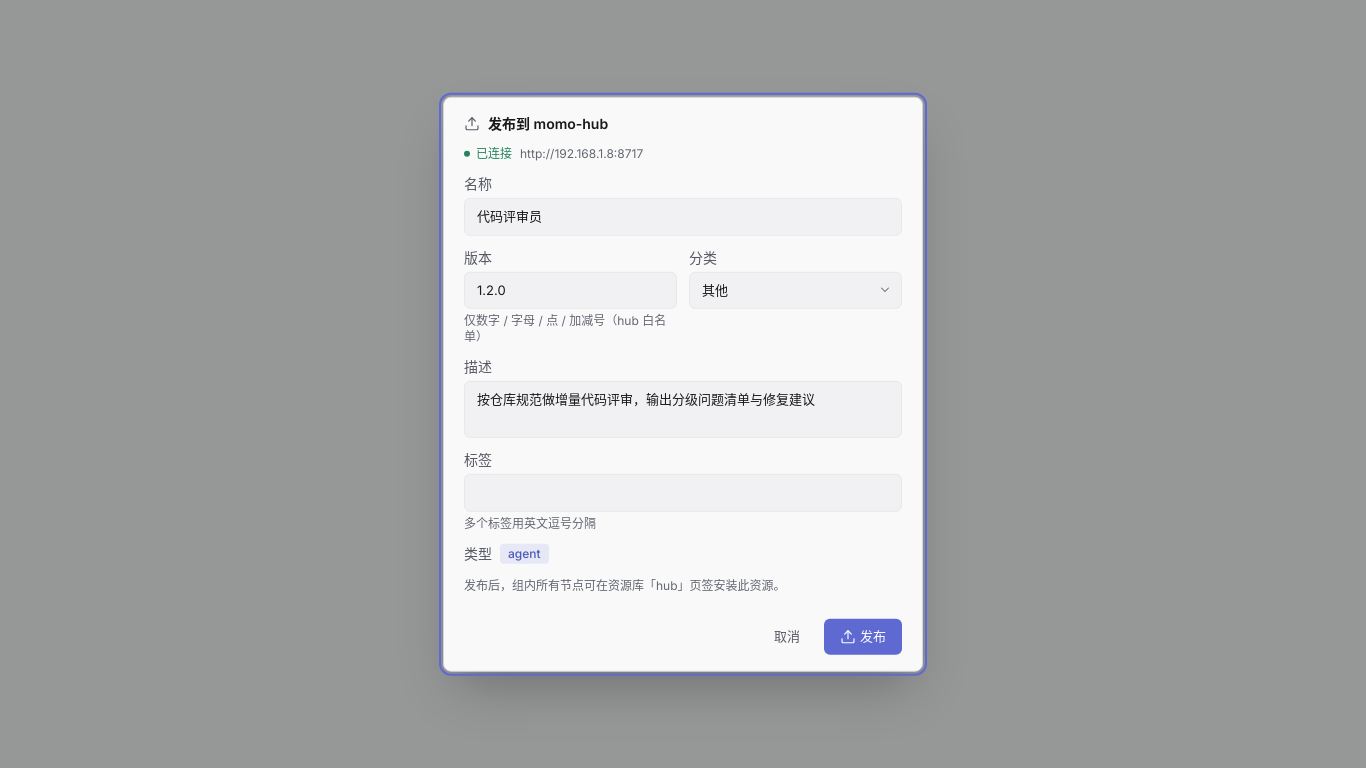
Test: PublishDialog · 版本回写回执（M5.1） › plugin zip 装源 skipped → 提示「插件本体由插件包管理，版本未回写」
The image size is (1366, 768).
Click the button "发布" at [863, 637], box [824, 619, 902, 654]
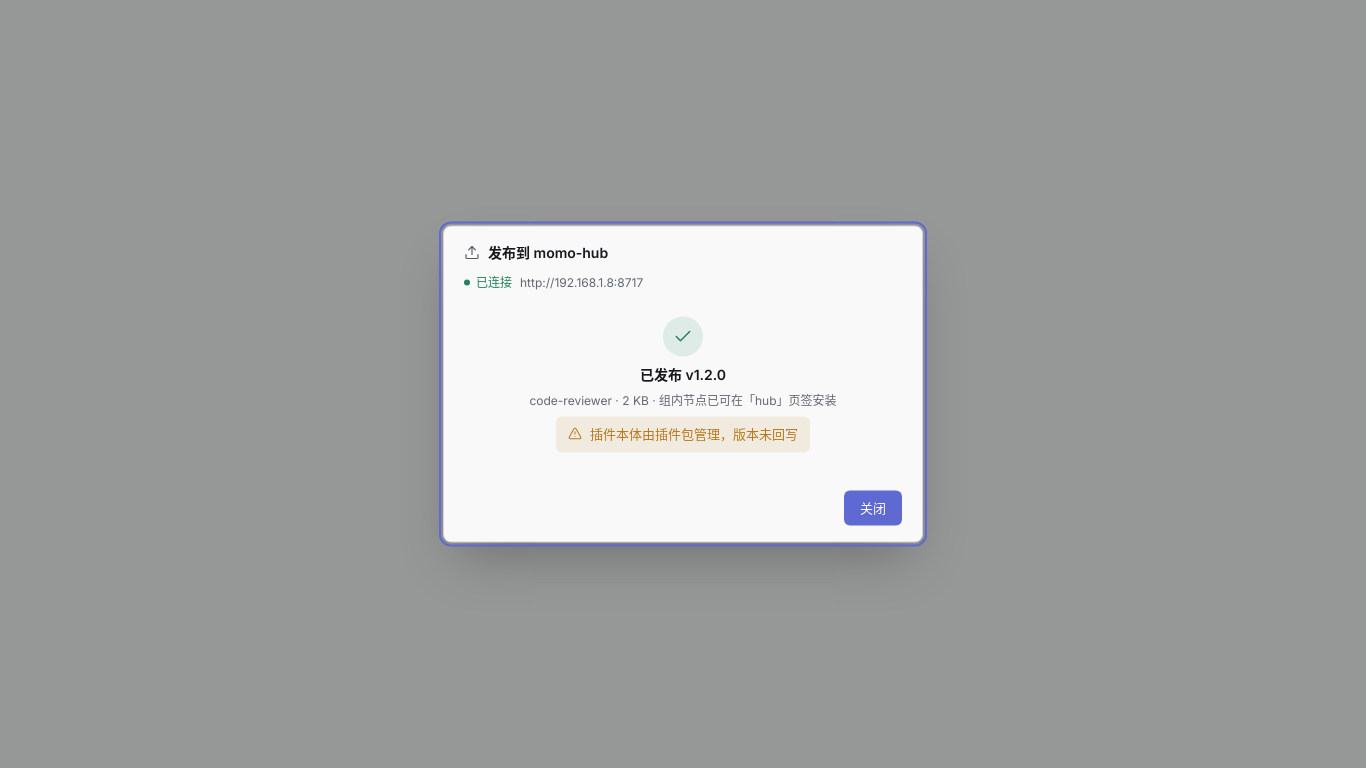
Result: the element with test id "writeback-notice" reads "插件本体由插件包管理，版本未回写" at [590, 426, 798, 442]
